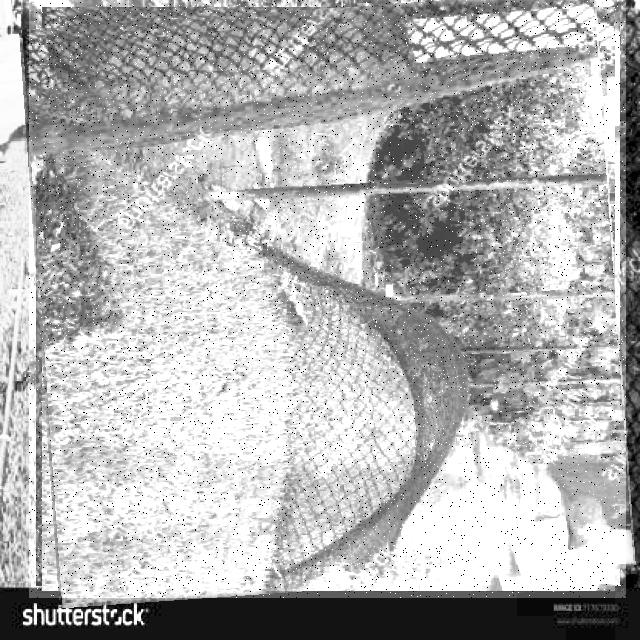anomaly-fence: (29, 0, 626, 598)
